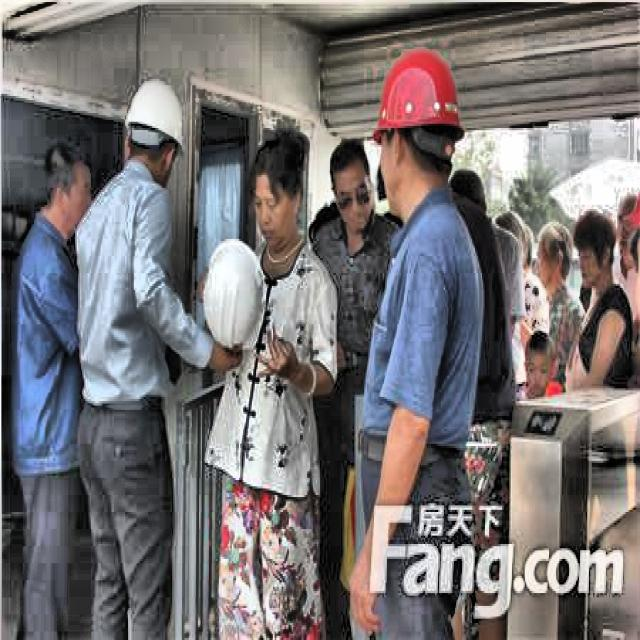helmet: (369, 47, 464, 220), (124, 74, 183, 188)
